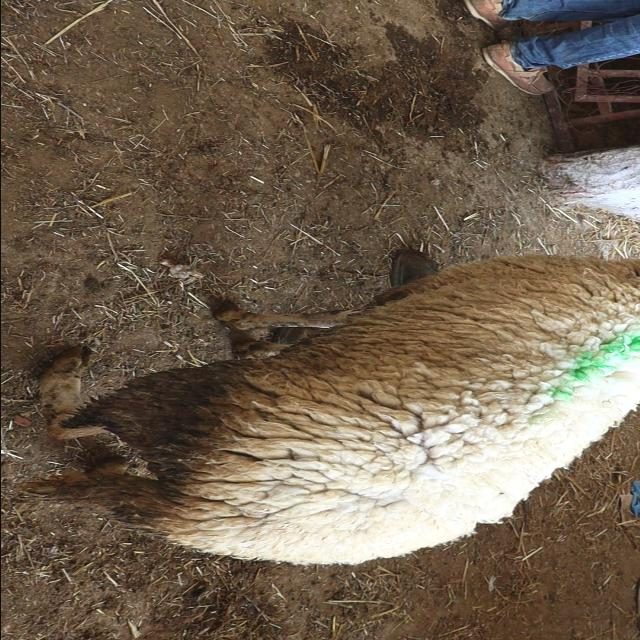Score_3: (23, 255, 640, 564)
